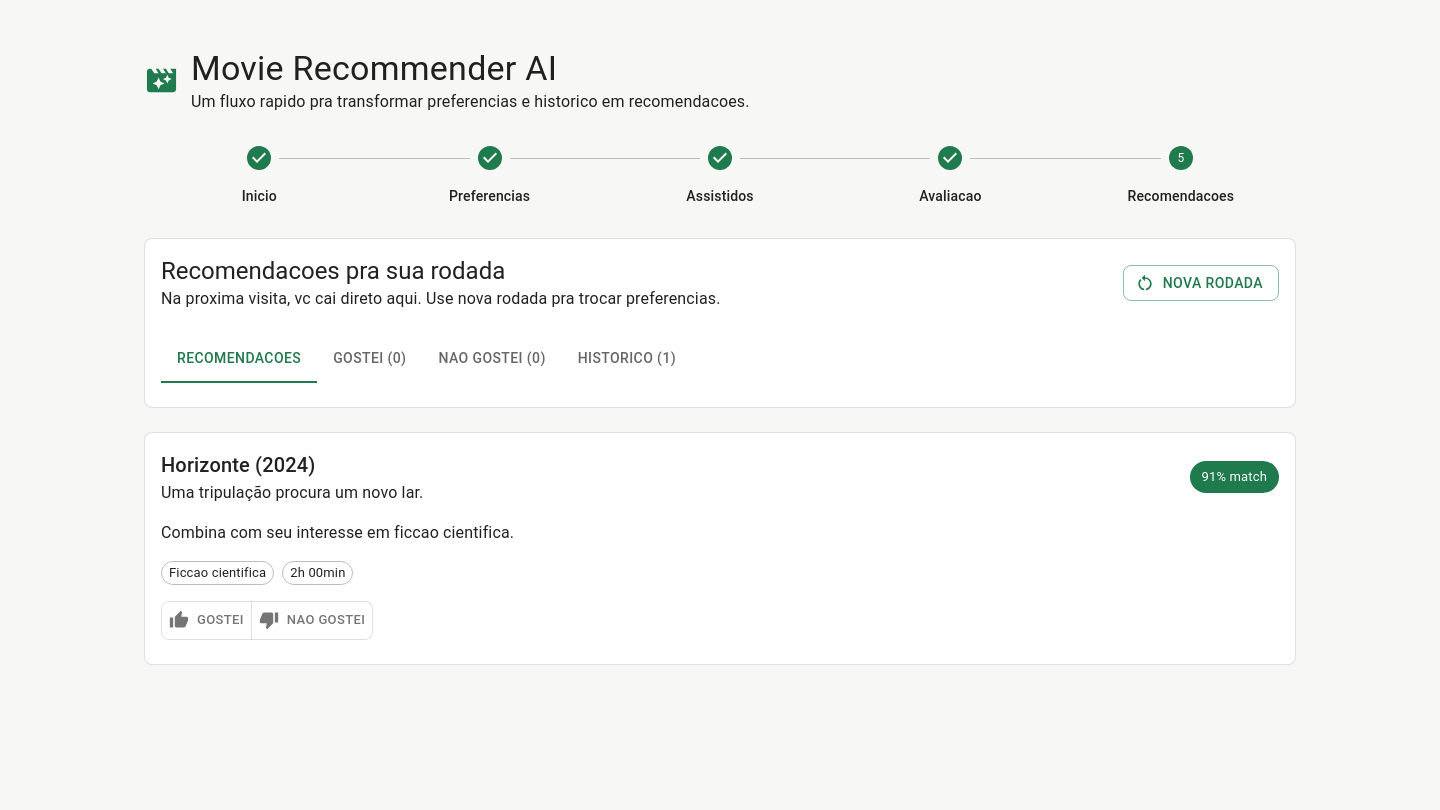
Test case: recommendation journey › when submitting feedback › shows a recoverable error when the API rejects feedback
Expected: the heading "Horizonte (2024)" is shown, [161,453,316,477]
Click the button with aria-label "Nao gostei de Horizonte" at [312, 620], box [251,601,373,640]
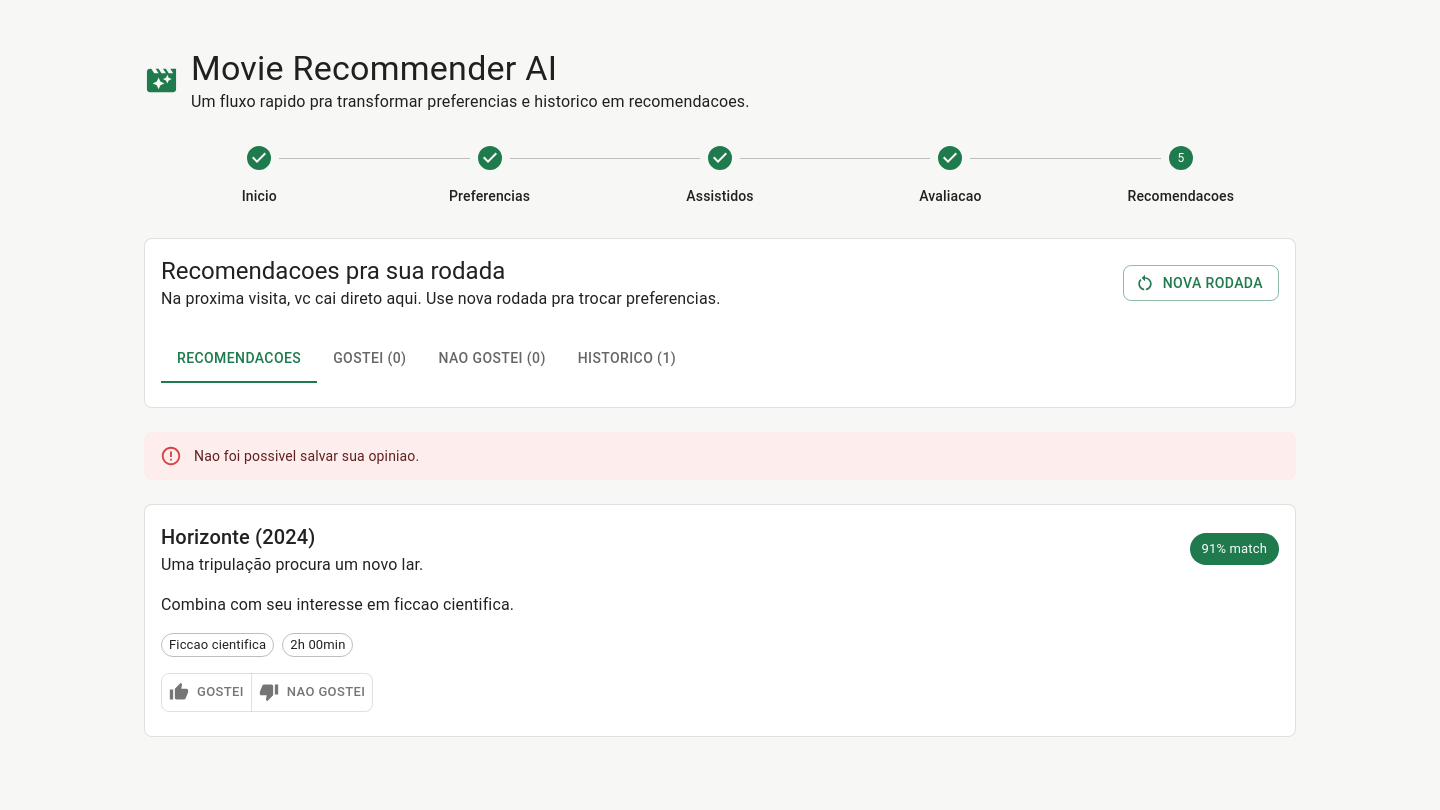
Expected: the text "Nao foi possivel salvar sua opiniao." is shown, [194,448,419,464]
